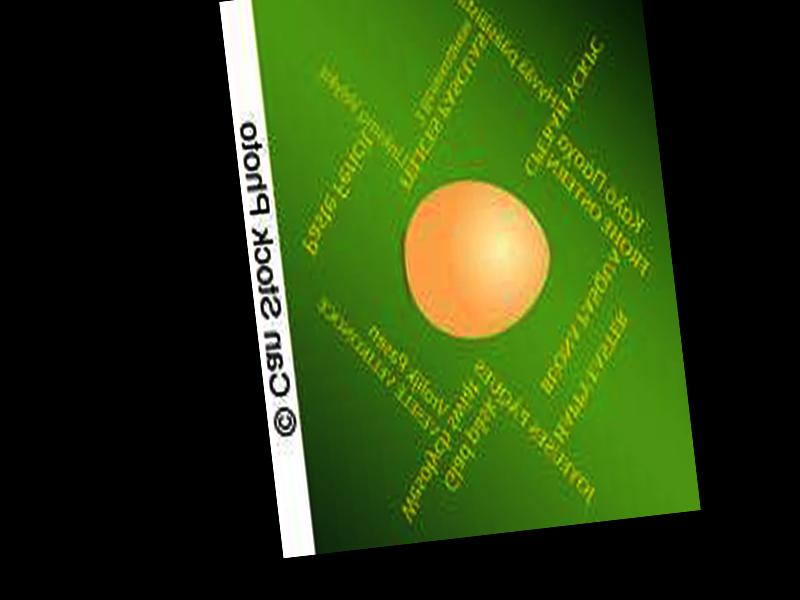Eggs: (396, 174, 558, 345)
